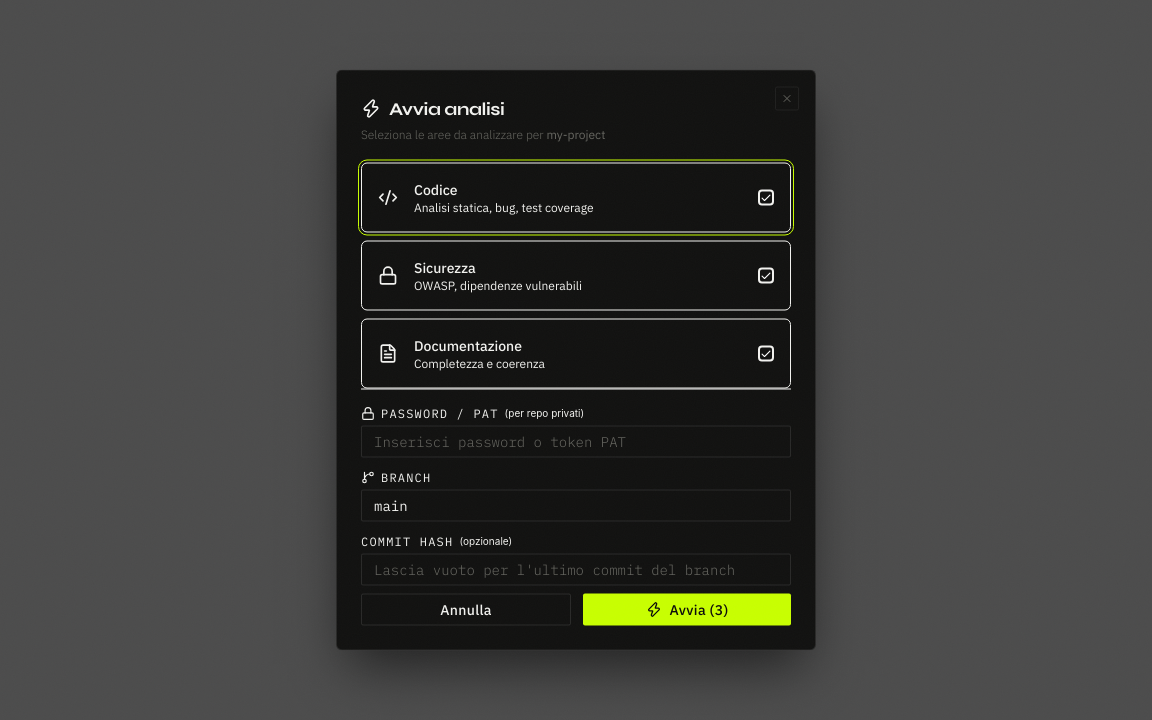
Test: AnalysisOptionsModal › shows error for malformed commit hash
The image size is (1152, 720).
Type "notahash" into the field with placeholder "Lascia vuoto per l'ultimo commit del branch".
click(576, 570); type("notahash")  # box [361, 554, 791, 586]
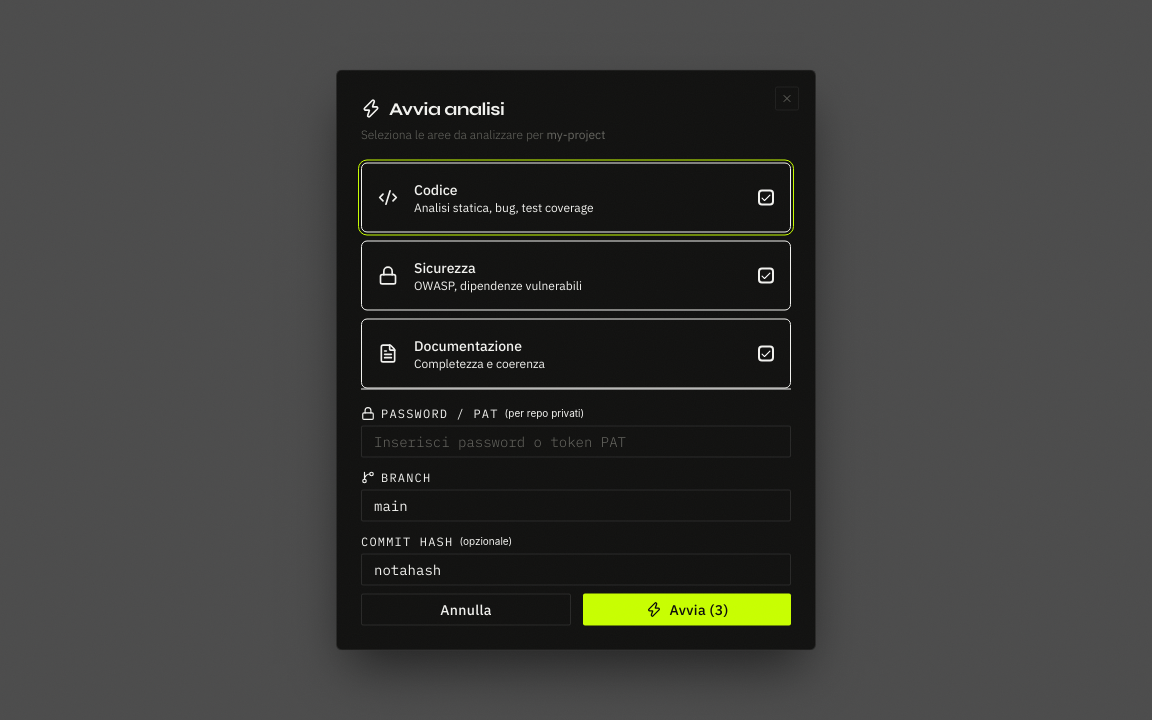
Click the button "Avvia (3)".
click(687, 610)  # box [583, 594, 791, 626]
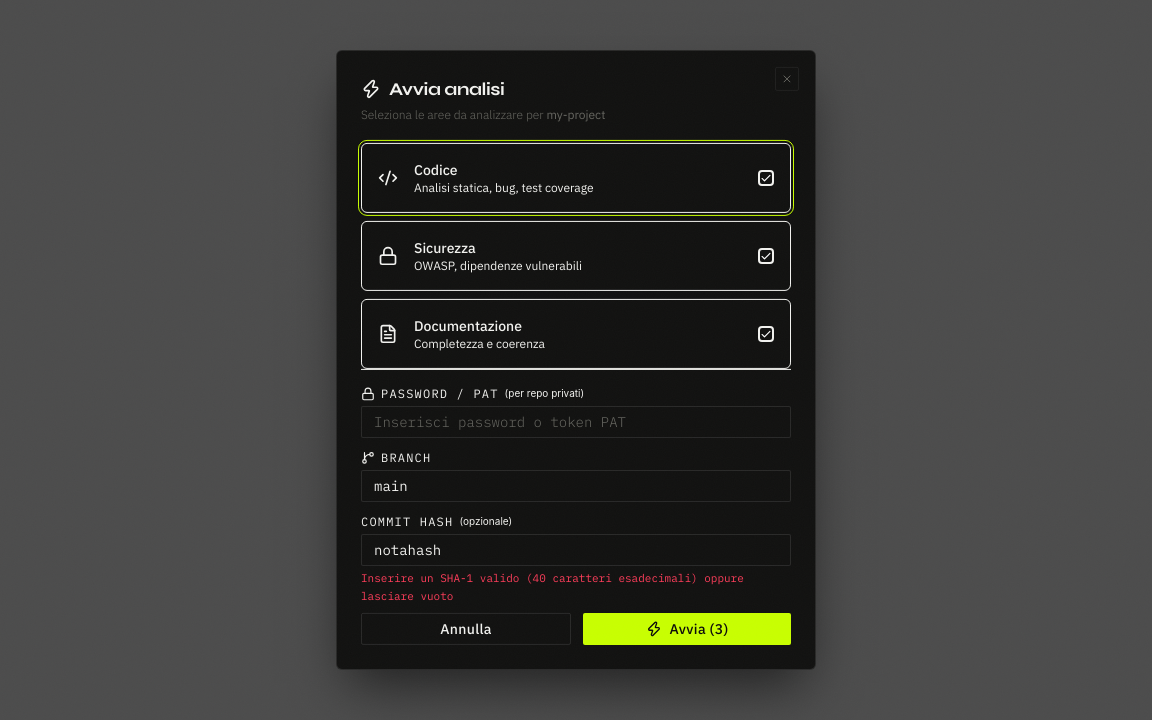
expect the text "SHA-1 valido" is shown: met, box [361, 571, 744, 602]
